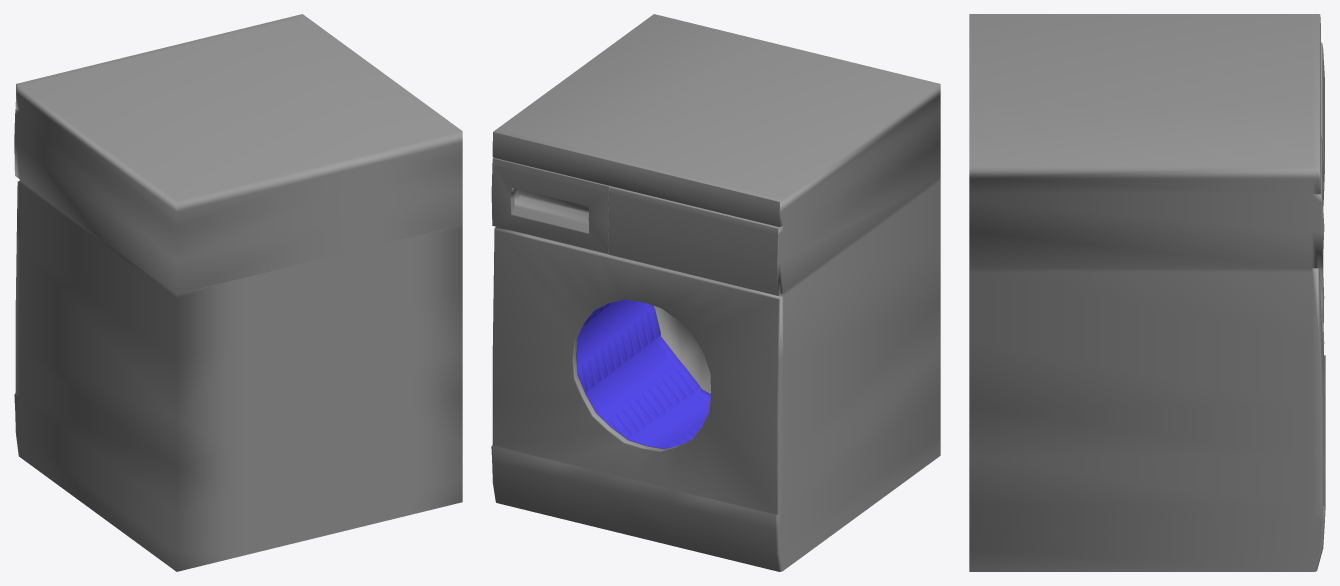
The model's file is SM_Kitchen_WashingMachine.fbx.
The picture shows the model from 3 angles, left to right: view 1: azimuth 30°, elevation 25°; view 2: azimuth 150°, elevation 25°; view 3: azimuth 270°, elevation 25°; orthographic projection. The views are drawn at different scales.
Visible parts, largest first — view 1: Object027; view 2: Object027; view 3: Object027.
Boxes of the visible parts, x1,y1,x2,y2 form: Object027: (14,14,462,571); Object027: (491,14,940,571); Object027: (969,14,1325,571).
Bounding box in the file's own units: 69.06 × 85.61 × 68.21.
